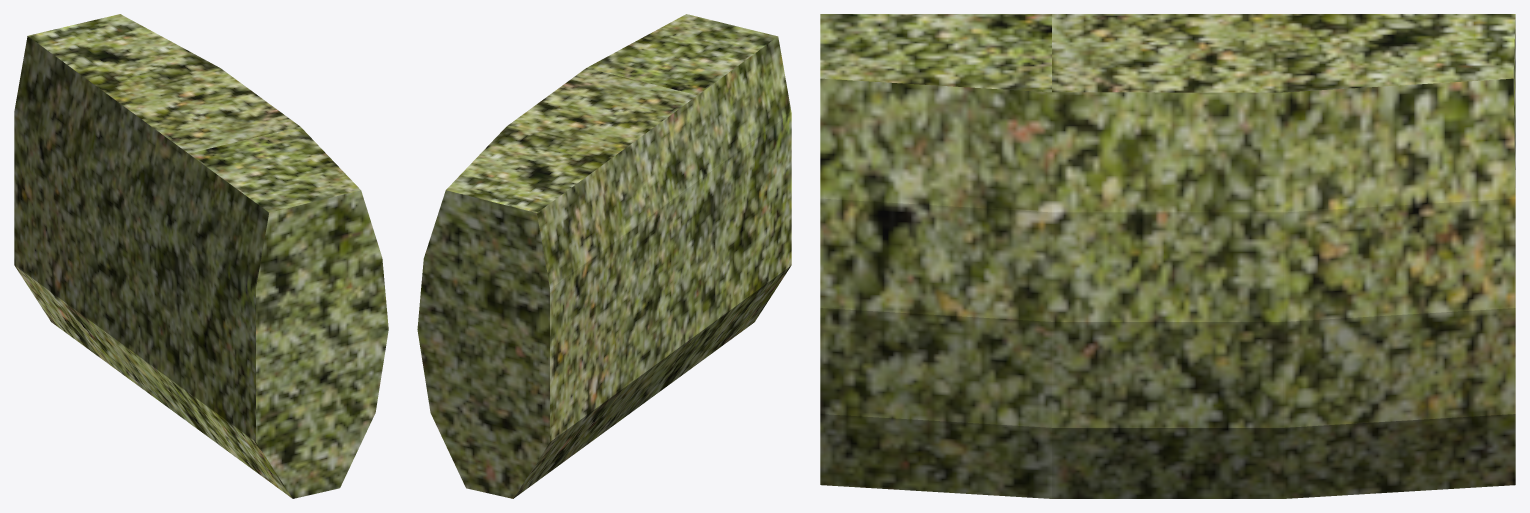
Rendered from bush.fbx.
The picture shows the model from 3 angles, left to right: view 1: azimuth 30°, elevation 25°; view 2: azimuth 150°, elevation 25°; view 3: azimuth 270°, elevation 25°; orthographic projection. The views are drawn at different scales.
Visible parts, largest first — view 1: Cube; view 2: Cube; view 3: Cube.
Boxes of the visible parts, x1,y1,x2,y2 form: Cube: (14,14,388,498); Cube: (417,14,791,498); Cube: (820,14,1515,498).
Bounding box in the file's own units: 219 × 401 × 600.
